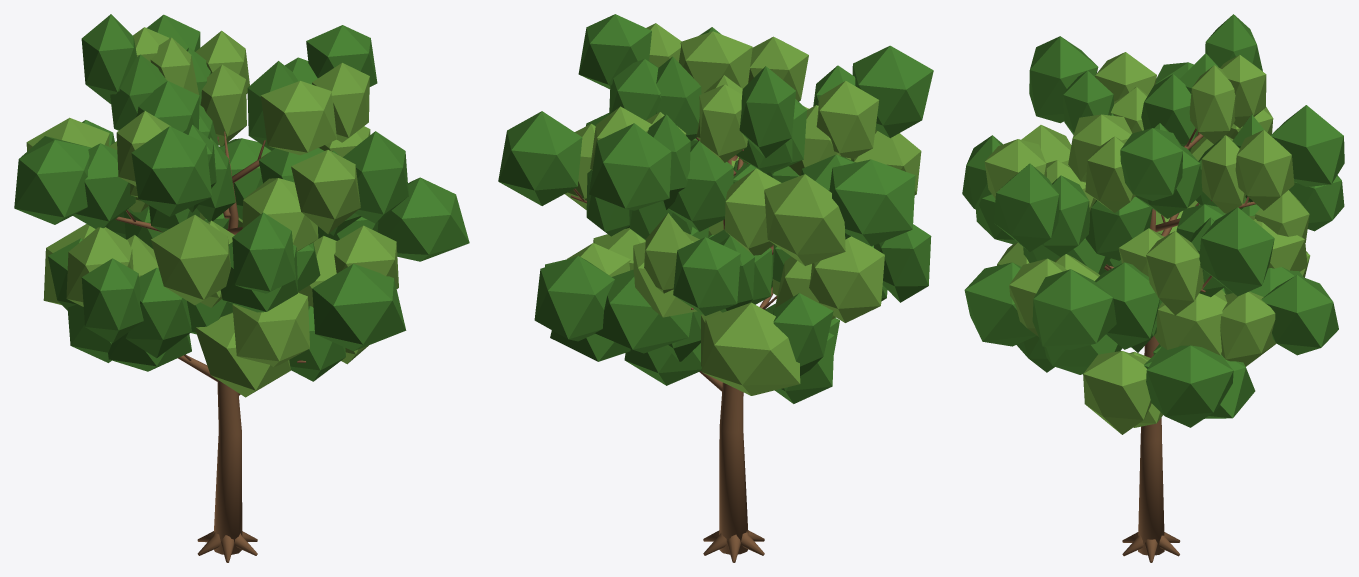
The model's file is linden-light.glb.
The picture shows the model from 3 angles, left to right: view 1: azimuth 30°, elevation 25°; view 2: azimuth 150°, elevation 25°; view 3: azimuth 270°, elevation 25°; orthographic projection. The views are drawn at different scales.
Visible parts, largest first — view 1: Simplified foliage crown.014, Simplified foliage crown.064, Simplified foliage crown.049, Simplified foliage crown.038, Simplified foliage crown.029, Simplified foliage crown.066, Trunk, Simplified foliage crown.013, Simplified foliage crown.053, Simplified foliage crown.039, Simplified foliage crown.024, Simplified foliage crown.054 (+36 smaller); view 2: Simplified foliage crown.008, Simplified foliage crown.044, Simplified foliage crown.049, Simplified foliage crown.048, Simplified foliage crown.059, Simplified foliage crown.019, Simplified foliage crown.064, Simplified foliage crown.023, Simplified foliage crown.017, Simplified foliage crown.034, Trunk, Simplified foliage crown.074 (+34 smaller); view 3: Simplified foliage crown.004, Simplified foliage crown.029, Simplified foliage crown.044, Simplified foliage crown.003, Simplified foliage crown.019, Simplified foliage crown.054, Simplified foliage crown.059, Simplified foliage crown.069, Simplified foliage crown.014, Simplified foliage crown.064, Simplified foliage crown.027, Simplified foliage crown.043 (+36 smaller).
Boxes of the visible parts, x1=… form: Simplified foliage crown.014: x1=312, y1=263, x2=406, y2=351; Simplified foliage crown.064: x1=131, y1=126, x2=212, y2=216; Simplified foliage crown.049: x1=14, y1=136, x2=91, y2=224; Simplified foliage crown.038: x1=151, y1=215, x2=230, y2=305; Simplified foliage crown.029: x1=377, y1=177, x2=469, y2=261; Simplified foliage crown.066: x1=260, y1=81, x2=336, y2=155; Trunk: x1=213, y1=131, x2=242, y2=554; Simplified foliage crown.013: x1=232, y1=292, x2=309, y2=367; Simplified foliage crown.053: x1=291, y1=150, x2=360, y2=234; Simplified foliage crown.039: x1=232, y1=212, x2=295, y2=293; Simplified foliage crown.024: x1=81, y1=258, x2=143, y2=343; Simplified foliage crown.054: x1=343, y1=131, x2=408, y2=223; Simplified foliage crown.008: x1=701, y1=302, x2=800, y2=395; Simplified foliage crown.044: x1=498, y1=111, x2=582, y2=205; Simplified foliage crown.049: x1=829, y1=159, x2=915, y2=246; Simplified foliage crown.048: x1=764, y1=174, x2=845, y2=265; Simplified foliage crown.059: x1=589, y1=123, x2=671, y2=210; Simplified foliage crown.019: x1=534, y1=256, x2=614, y2=341; Simplified foliage crown.064: x1=852, y1=45, x2=933, y2=138; Simplified foliage crown.023: x1=809, y1=236, x2=884, y2=322; Simplified foliage crown.017: x1=595, y1=269, x2=692, y2=353; Simplified foliage crown.034: x1=673, y1=237, x2=740, y2=315; Trunk: x1=719, y1=158, x2=748, y2=554; Simplified foliage crown.074: x1=739, y1=66, x2=795, y2=157; Simplified foliage crown.004: x1=1146, y1=345, x2=1233, y2=427; Simplified foliage crown.029: x1=1032, y1=269, x2=1116, y2=349; Simplified foliage crown.044: x1=1199, y1=207, x2=1274, y2=296; Simplified foliage crown.003: x1=1083, y1=351, x2=1151, y2=434; Simplified foliage crown.019: x1=1261, y1=275, x2=1338, y2=355; Simplified foliage crown.054: x1=993, y1=163, x2=1059, y2=251; Simplified foliage crown.059: x1=1270, y1=105, x2=1344, y2=186; Simplified foliage crown.069: x1=1120, y1=128, x2=1182, y2=200; Simplified foliage crown.014: x1=964, y1=262, x2=1036, y2=346; Simplified foliage crown.064: x1=1029, y1=36, x2=1098, y2=123; Simplified foliage crown.027: x1=1095, y1=262, x2=1159, y2=349; Simplified foliage crown.043: x1=1146, y1=231, x2=1203, y2=315.
Bounding box in the file's own units: 7.17 × 9.4 × 6.5.
